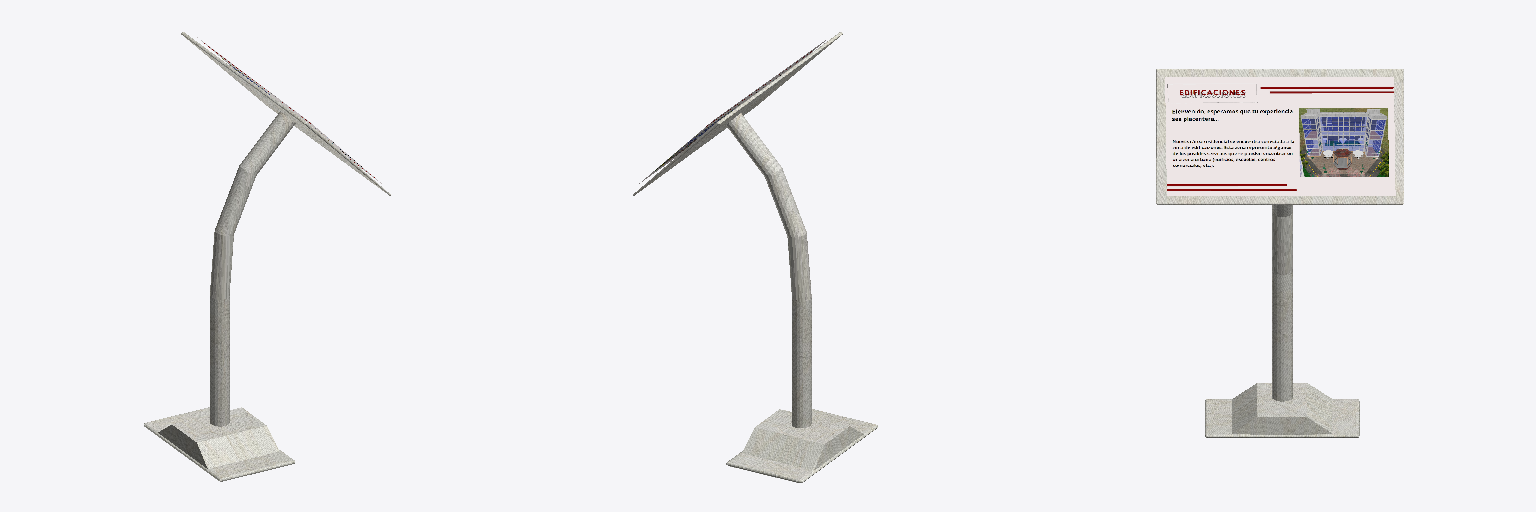
3 views of the same model, side by side, from view 1: azimuth 30°, elevation 25°; view 2: azimuth 150°, elevation 25°; view 3: azimuth 270°, elevation 25° (orthographic).
Parts seen in each view (by area): view 1: Tube001, ChamferBox001, ChamferBox002; view 2: Tube001, ChamferBox001, ChamferBox002, Plane001; view 3: Plane001, ChamferBox001, ChamferBox002, Tube001.
Part boxes in pixels (x1,y1,x2,y2): Tube001: (210, 111, 295, 426); ChamferBox001: (144, 407, 294, 481); ChamferBox002: (181, 32, 390, 195); Tube001: (726, 113, 811, 427); ChamferBox001: (726, 409, 877, 482); ChamferBox002: (633, 32, 842, 195); Plane001: (639, 40, 825, 183); Plane001: (1165, 77, 1395, 195); ChamferBox001: (1205, 383, 1359, 437); ChamferBox002: (1156, 69, 1403, 204); Tube001: (1272, 205, 1292, 401).
Bounding box in the file's own units: 10.76 × 25.3 × 15.66.
2 materials, 2 textured.